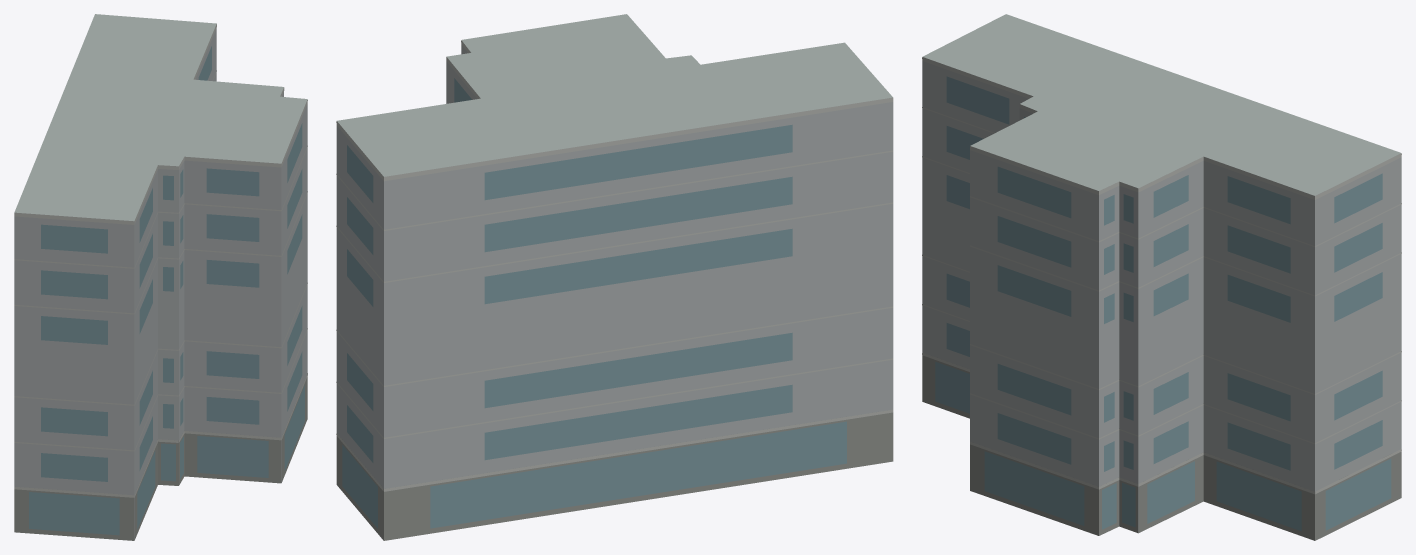
Rendered from survey-upis-32961819.glb.
3 views of the same model, side by side, from view 1: azimuth 30°, elevation 25°; view 2: azimuth 150°, elevation 25°; view 3: azimuth 270°, elevation 25° (orthographic). The views are drawn at different scales.
Parts seen in each view (by area): view 1: survey-upis-32961819.tmp; view 2: survey-upis-32961819.tmp; view 3: survey-upis-32961819.tmp.
Part boxes in pixels (left/top/right/bottom): survey-upis-32961819.tmp: left=14, top=14, right=307, bottom=540; survey-upis-32961819.tmp: left=336, top=14, right=893, bottom=540; survey-upis-32961819.tmp: left=922, top=14, right=1401, bottom=540.
Bounding box in the file's own units: 22.99 × 20.3 × 25.59.
